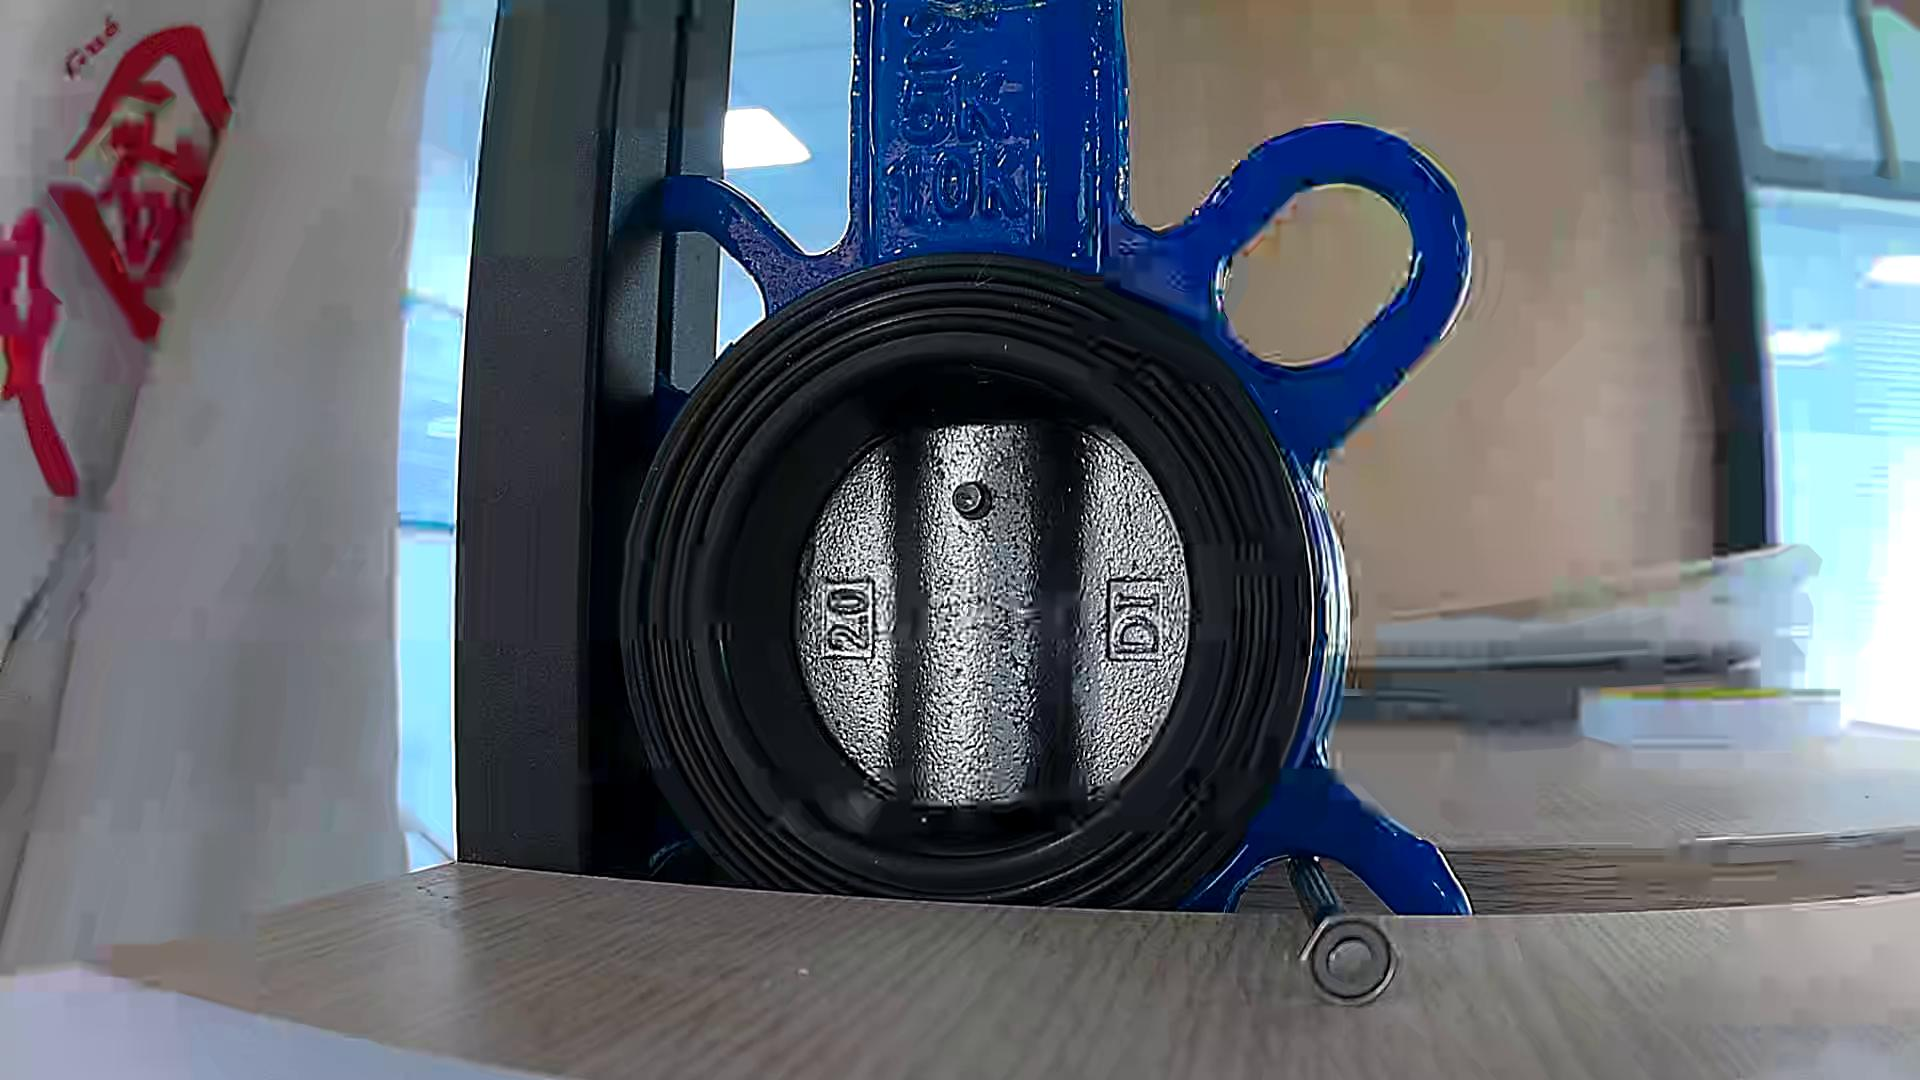valve: (795, 419, 1188, 806)
